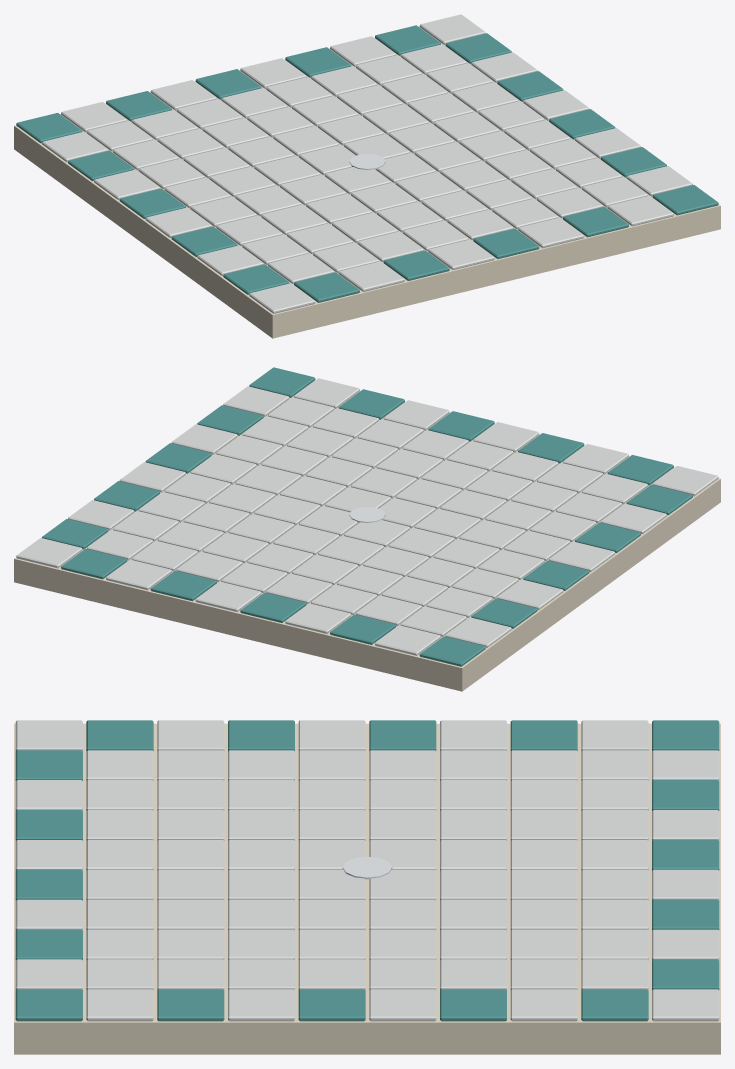
File: floor_hm_drain.glb
The picture shows the model from 3 angles, top to bottom: view 1: azimuth 30°, elevation 25°; view 2: azimuth 150°, elevation 25°; view 3: azimuth 270°, elevation 25°; orthographic projection. The views are drawn at different scales.
Parts seen in each view (by area): view 1: floor_hm_drain; view 2: floor_hm_drain; view 3: floor_hm_drain.
Part boxes in pixels (box(x1,y1,x2,y2)): floor_hm_drain: box(14, 14, 720, 338); floor_hm_drain: box(14, 367, 720, 691); floor_hm_drain: box(14, 720, 720, 1054).
Bounding box in the file's own units: 4 × 0.238 × 4.
